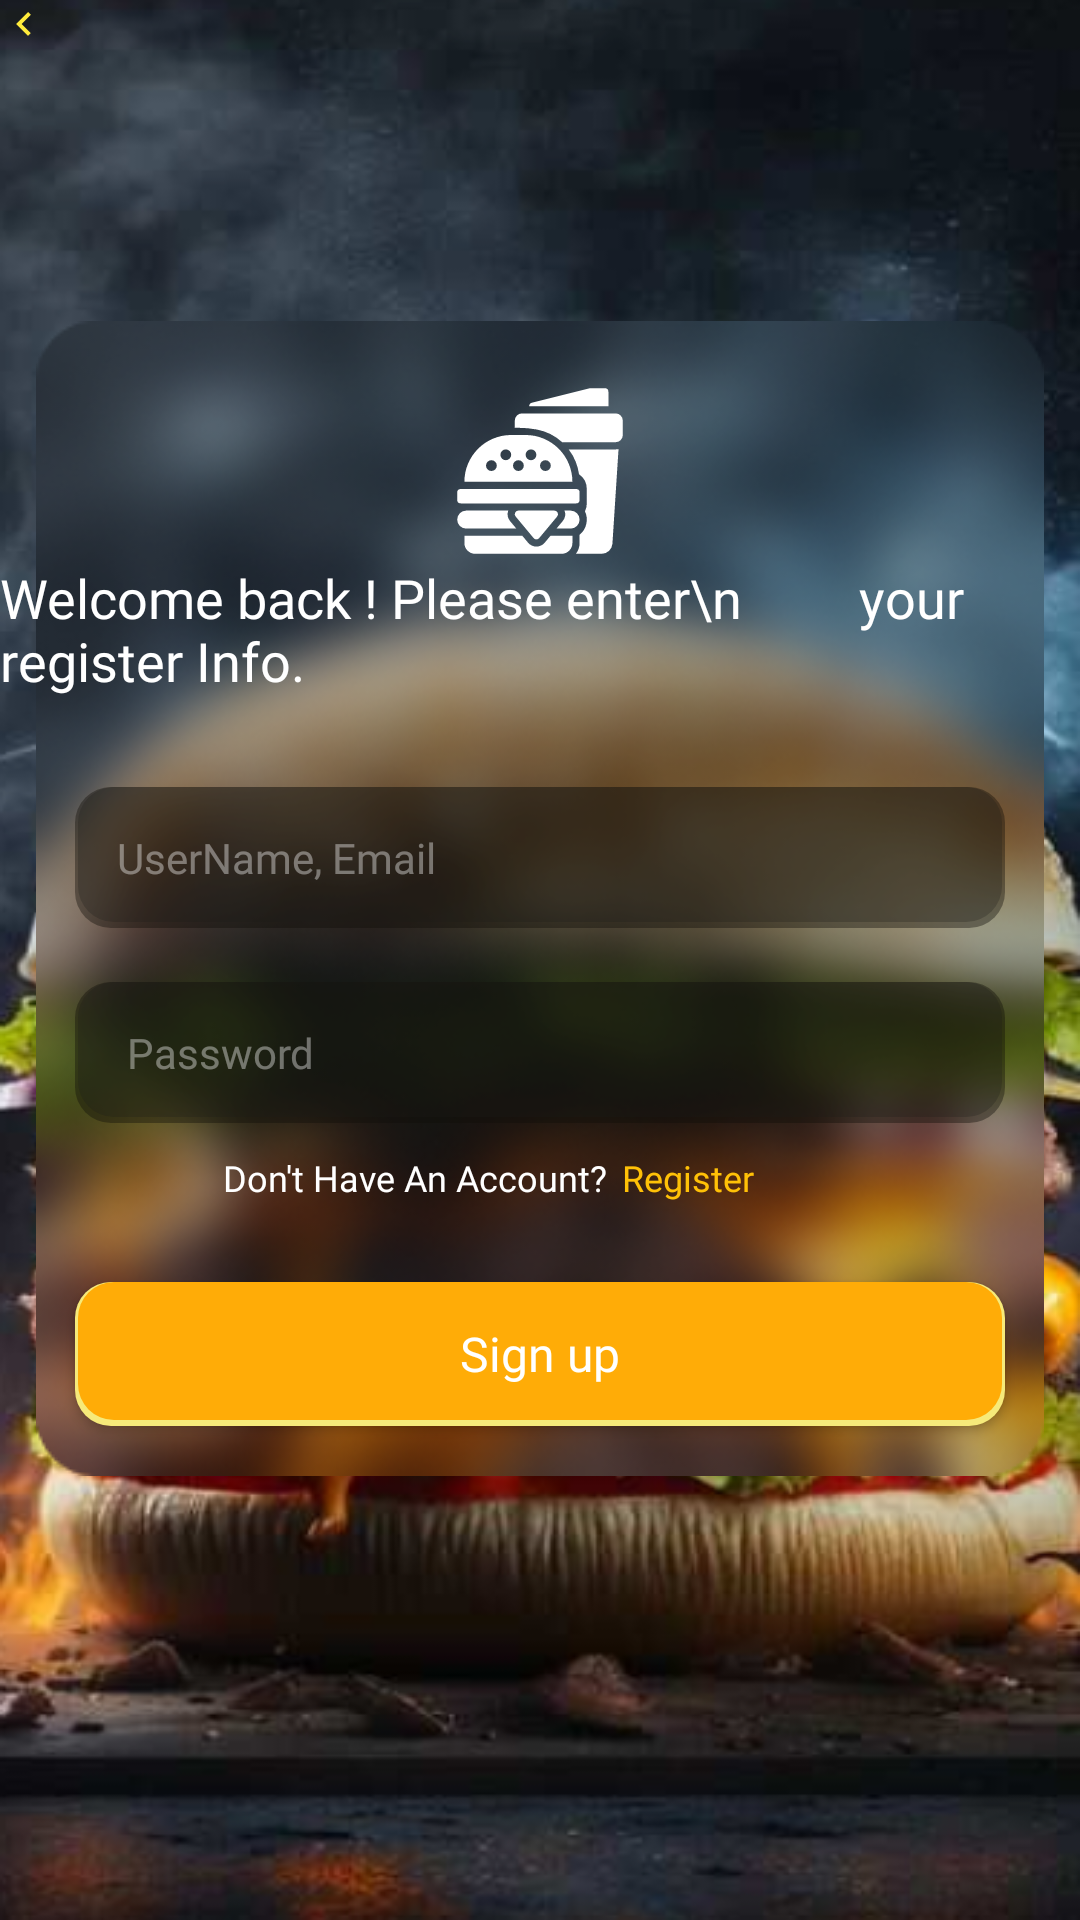

Where icons sit on this 1080 × 1920 app screen, as (x1, y1, x2, y2):
chevron left: (0, 0, 48, 36)
food: (450, 381, 623, 554)
